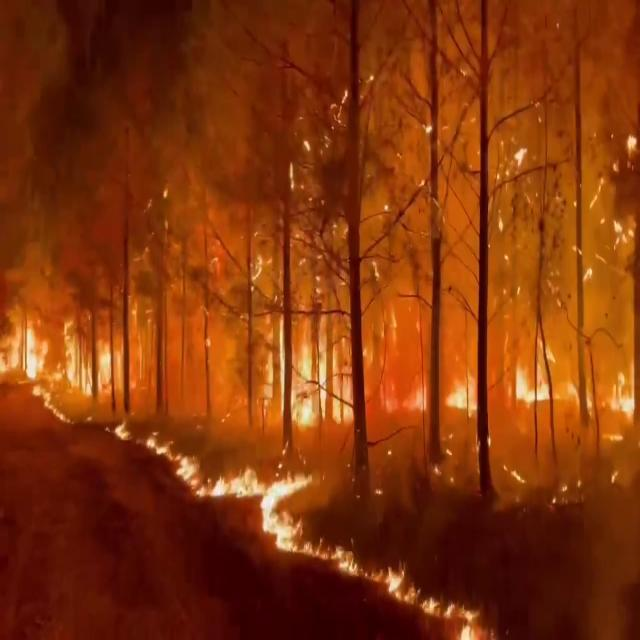Fire: (445, 344, 636, 416), (220, 465, 323, 557), (336, 538, 402, 608), (0, 304, 51, 394), (418, 586, 499, 640), (156, 434, 213, 506)
Smoke: (63, 0, 640, 409)
